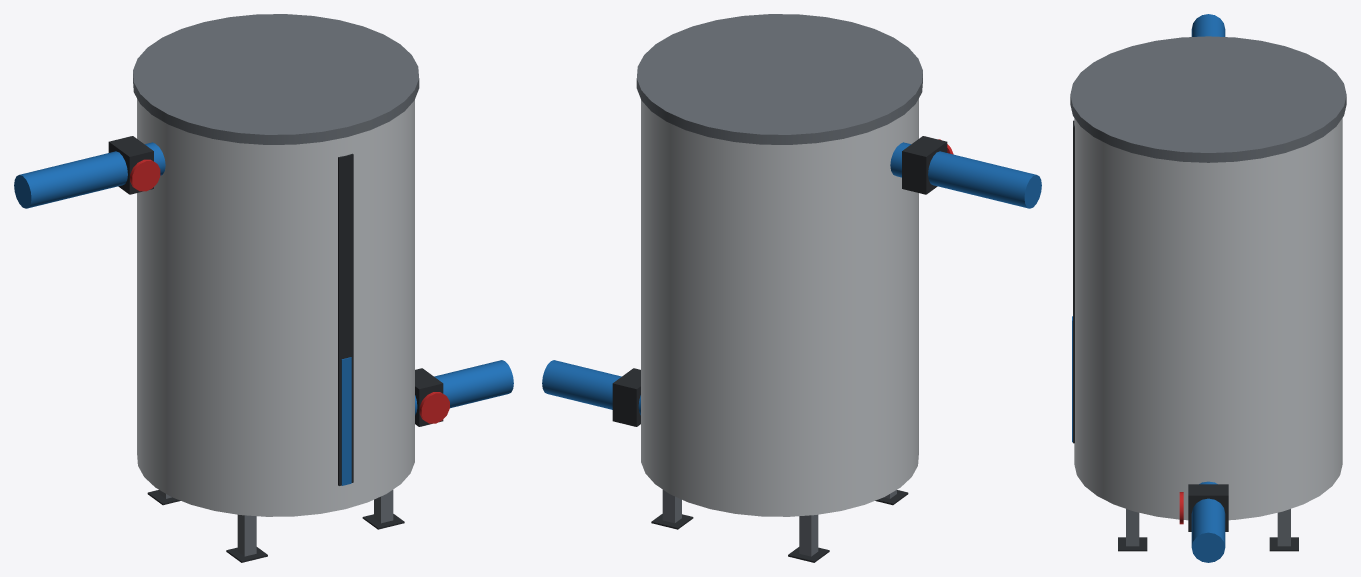
File: tank.glb
3 renders of one model, left to right at view 1: azimuth 30°, elevation 25°; view 2: azimuth 150°, elevation 25°; view 3: azimuth 270°, elevation 25°, orthographic. The views are drawn at different scales.
Visible parts, largest first — view 1: Tank_Static, Level; view 2: Tank_Static; view 3: Tank_Static.
Part boxes in pixels (left/top/right/bottom): Tank_Static: left=14, top=14, right=513, bottom=562; Level: left=341, top=357, right=351, bottom=485; Tank_Static: left=542, top=14, right=1041, bottom=562; Tank_Static: left=1070, top=14, right=1346, bottom=562.
Size of the model in its own units: 4 by 3.44 by 2.06.
